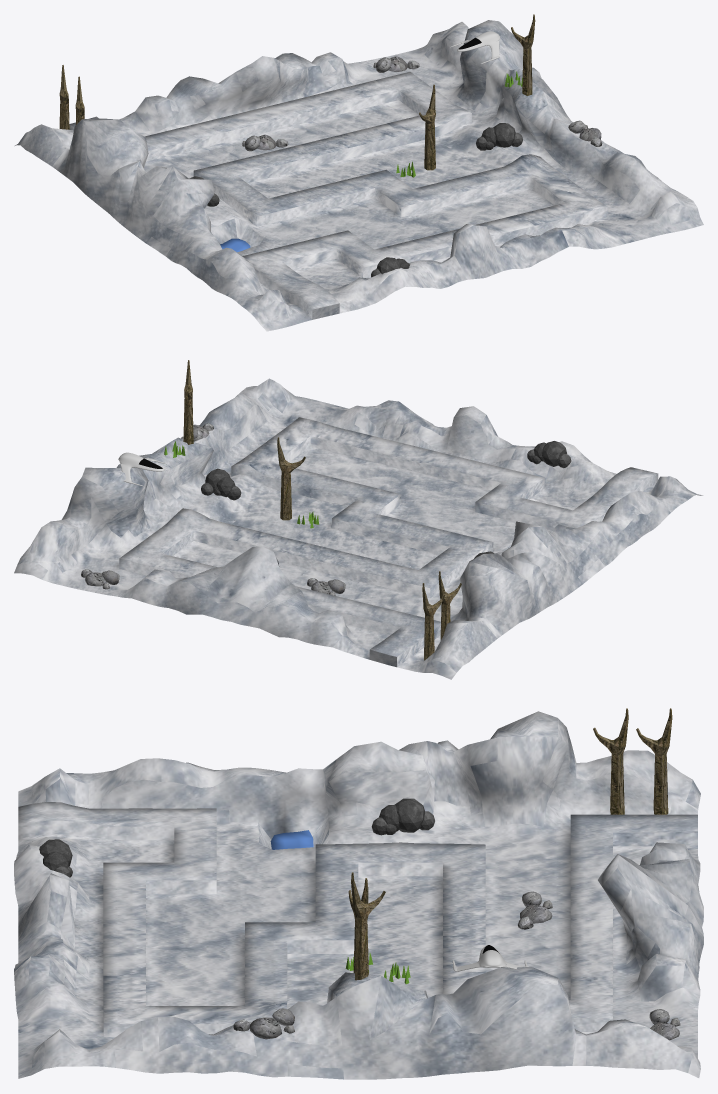
The model's file is mapupdatefinal.fbx.
The picture shows the model from 3 angles, top to bottom: view 1: azimuth 30°, elevation 25°; view 2: azimuth 150°, elevation 25°; view 3: azimuth 270°, elevation 25°; orthographic projection. The views are drawn at different scales.
Visible parts, largest first — view 1: Plane, Icosphere.005, Cylinder.003, Cylinder.004, Cube, Icosphere.002, Icosphere.003, Cylinder.000; view 2: Plane, Cylinder.003, Icosphere.001, Icosphere.005, Cylinder.000, Cube, Cylinder.004, Icosphere.002, Cylinder.001; view 3: Plane, Icosphere.000, Cylinder.001, Cylinder.000, Cylinder.004, Icosphere.004, Icosphere.001, Icosphere.003, Cube, Icosphere.002.
Boxes of the visible parts, x1,y1,x2,y2 form: Plane: (15, 20, 703, 331); Icosphere.005: (476, 123, 522, 150); Cylinder.003: (419, 84, 435, 170); Cylinder.004: (511, 14, 535, 95); Cube: (450, 31, 500, 64); Icosphere.002: (373, 56, 419, 72); Icosphere.003: (242, 134, 288, 151); Cylinder.000: (59, 65, 69, 129); Plane: (14, 378, 703, 679); Cylinder.003: (277, 437, 305, 520); Icosphere.001: (527, 441, 571, 468); Icosphere.005: (201, 468, 241, 500); Cylinder.000: (422, 583, 444, 660); Cube: (118, 452, 167, 486); Cylinder.004: (183, 360, 193, 444); Icosphere.002: (81, 569, 119, 589); Cylinder.001: (438, 571, 461, 640); Plane: (14, 711, 703, 1079); Icosphere.000: (371, 798, 434, 835); Cylinder.001: (593, 708, 628, 814); Cylinder.000: (636, 708, 672, 814); Cylinder.004: (351, 872, 385, 980); Icosphere.004: (233, 1008, 294, 1039); Icosphere.001: (39, 839, 72, 877); Icosphere.003: (517, 891, 552, 929); Cube: (452, 945, 527, 971); Icosphere.002: (649, 1009, 680, 1040).
Bounding box in the file's own units: 1745 × 557 × 1732.
